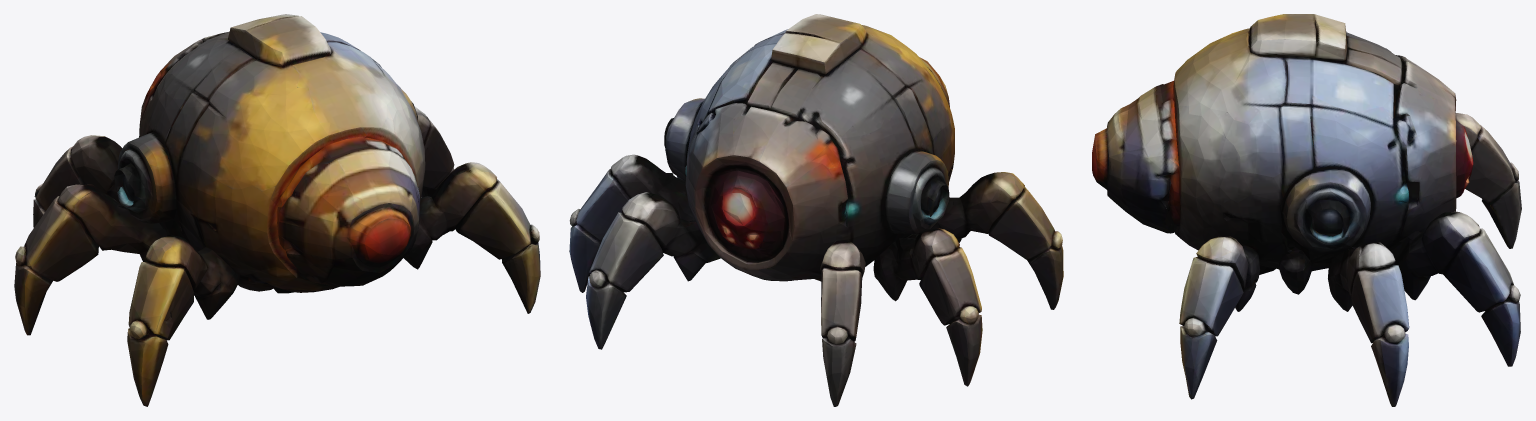
The model's file is crawl.glb.
3 renders of one model, left to right at view 1: azimuth 30°, elevation 25°; view 2: azimuth 150°, elevation 25°; view 3: azimuth 270°, elevation 25°, orthographic. The views are drawn at different scales.
Parts seen in each view (by area): view 1: helper; view 2: helper; view 3: helper.
Part boxes in pixels (x1,y1,x2,y2): helper: (14, 14, 540, 406); helper: (569, 14, 1063, 406); helper: (1092, 14, 1521, 406).
Bounding box in the file's own units: 1.54 × 0.9999 × 1.36.
1 material, 1 textured.
